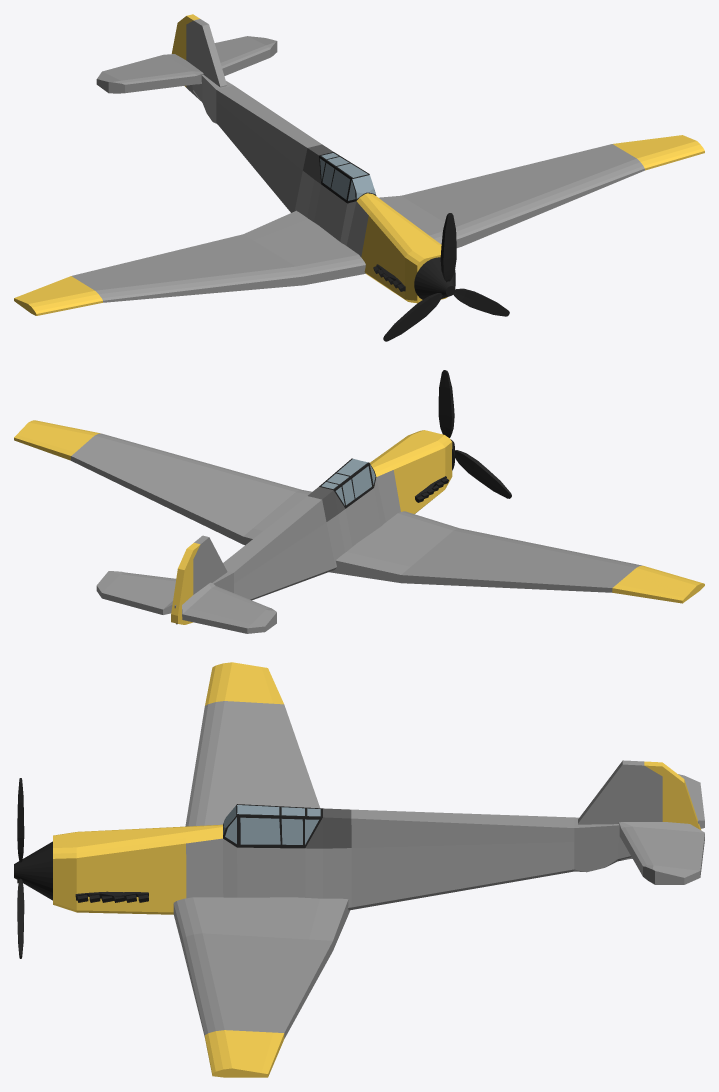
The picture shows the model from 3 angles, top to bottom: view 1: azimuth 30°, elevation 25°; view 2: azimuth 150°, elevation 25°; view 3: azimuth 270°, elevation 25°; orthographic projection. The views are drawn at different scales.
Visible parts, largest first — view 1: Cube.001, Cube, Cube.002, Cylinder, Cube.003, Cone; view 2: Cube.001, Cube, Cube.002, Cube.003, Cylinder; view 3: Cube, Cube.001, Cube.003, Cube.002, Cone, Cylinder, Cube.004.
Boxes of the visible parts, x1,y1,x2,y2 form: Cube.001: (14,135,704,315); Cube: (192,75,447,303); Cube.002: (96,36,277,93); Cylinder: (383,213,509,341); Cube.003: (171,14,226,100); Cone: (414,257,455,299); Cube.001: (14,420,704,603); Cube: (174,430,452,624); Cube.002: (96,571,276,633); Cube.003: (171,535,227,624); Cylinder: (438,370,511,498); Cube: (53,804,698,914); Cube.001: (173,662,350,1077); Cube.003: (578,760,700,859); Cube.002: (618,774,704,884); Cone: (14,841,52,900); Cylinder: (17,778,24,958); Cube.004: (75,891,148,902).
Bounding box in the file's own units: 6.73 × 1.23 × 4.84.
Materials: 1 (1 with a texture image).
